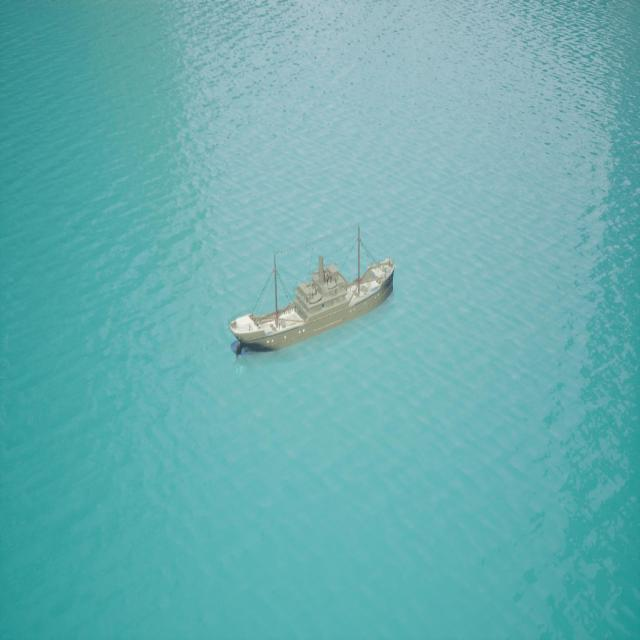fishing ship: (232, 254, 396, 356)
